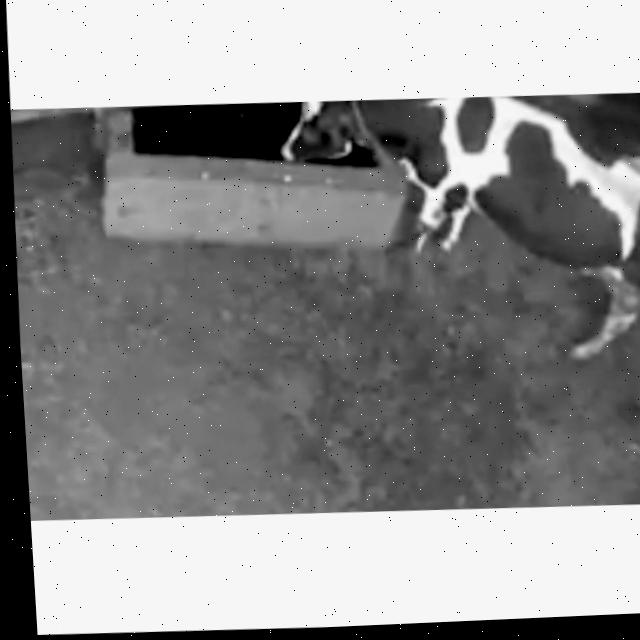drink: (263, 93, 442, 189)
